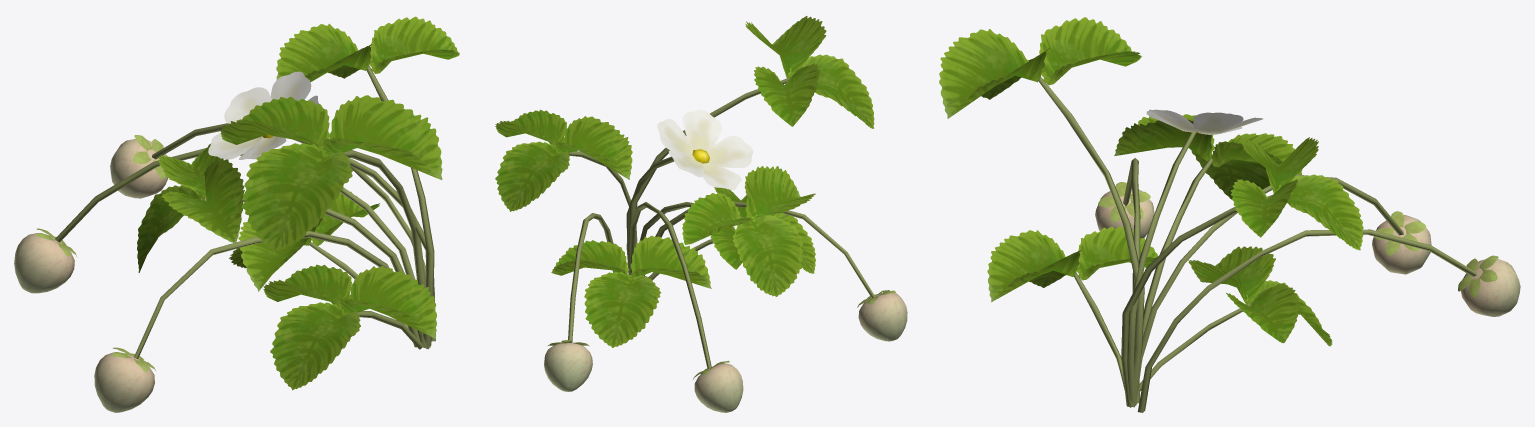
The model's file is Strawberry_immature.fbx.
The picture shows the model from 3 angles, left to right: view 1: azimuth 30°, elevation 25°; view 2: azimuth 150°, elevation 25°; view 3: azimuth 270°, elevation 25°; orthographic projection. The views are drawn at different scales.
Parts seen in each view (by area): view 1: strawberry_immature; view 2: strawberry_immature; view 3: strawberry_immature.
Boxes of the visible parts, x1=… form: strawberry_immature: x1=14, y1=16, x2=459, y2=412; strawberry_immature: x1=495, y1=16, x2=907, y2=412; strawberry_immature: x1=939, y1=17, x2=1520, y2=412.
Bounding box in the file's own units: 26.4 × 18.19 × 31.38.
